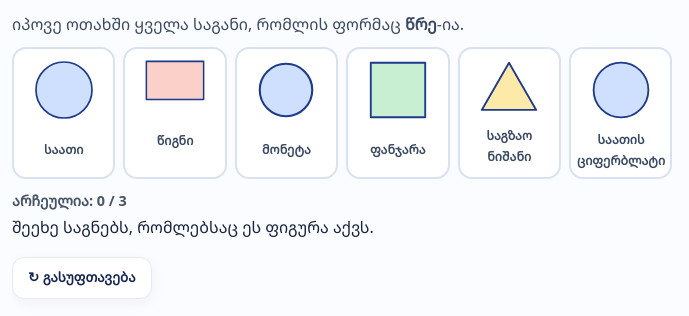
Test: tools: the shape explorer › the room lab counts the objects that really are the asked shape
Click the button "საათი". click: point(64, 113)
box: top-left (12, 47), bottom-right (115, 179)
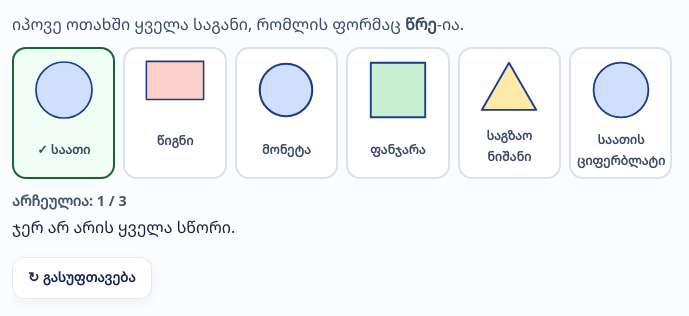
expect the element with class "room-count" shows "1 /": met, box top-left (12, 191), bottom-right (127, 210)
expect the message with class "lab-status" reads "ჯერ არ არის ყველა სწორი.": met, box top-left (12, 216), bottom-right (235, 238)
